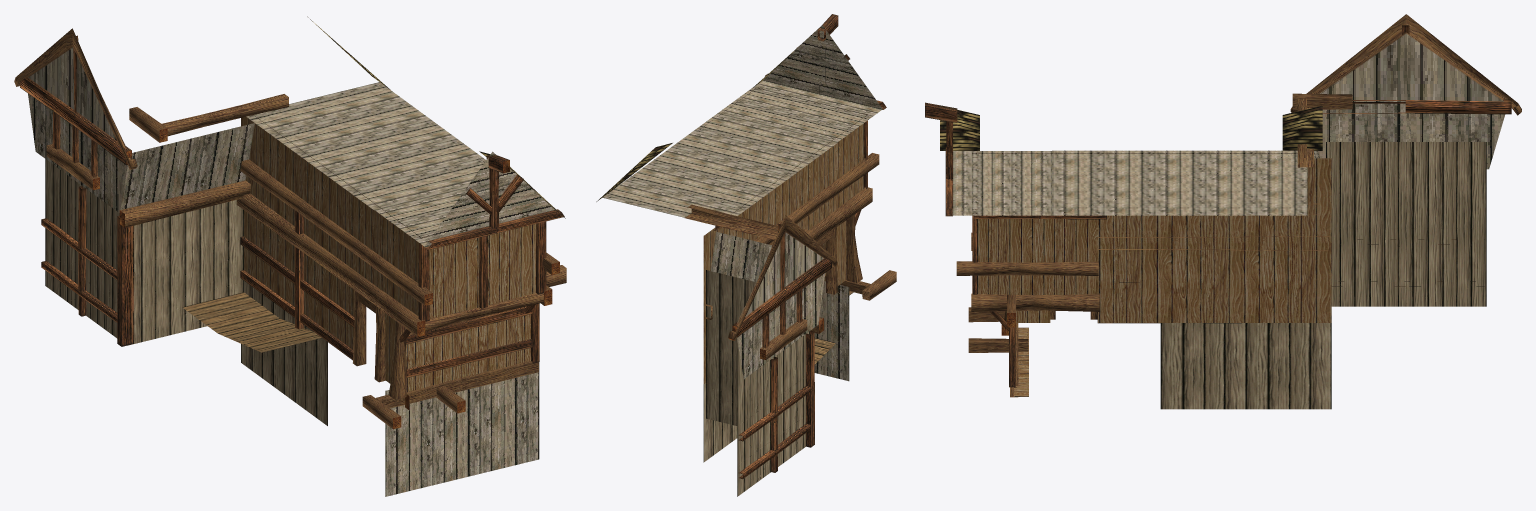
Rendered from LAKETOWN_EXTERIOR_PS_LT_CORNERHOUSE77__GX.fbx.
3 views of the same model, side by side, from view 1: azimuth 30°, elevation 25°; view 2: azimuth 150°, elevation 25°; view 3: azimuth 270°, elevation 25° (orthographic). The views are drawn at different scales.
Visible parts, largest first — view 1: LAKETOWN_EXTERIOR_PS_LT_CORNERHOUSE77__GX; view 2: LAKETOWN_EXTERIOR_PS_LT_CORNERHOUSE77__GX; view 3: LAKETOWN_EXTERIOR_PS_LT_CORNERHOUSE77__GX.
Part boxes in pixels (left/top/right/bottom): LAKETOWN_EXTERIOR_PS_LT_CORNERHOUSE77__GX: left=14, top=16, right=566, bottom=496; LAKETOWN_EXTERIOR_PS_LT_CORNERHOUSE77__GX: left=596, top=14, right=896, bottom=496; LAKETOWN_EXTERIOR_PS_LT_CORNERHOUSE77__GX: left=925, top=14, right=1521, bottom=409.
Bounding box in the file's own units: 107999 × 126165 × 194032.
Materials: 11 (11 with a texture image).
